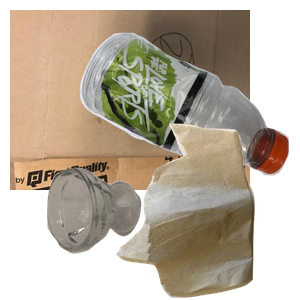cardboard: (10, 10, 250, 190)
glass: (44, 165, 178, 300)
plastic: (77, 30, 300, 198)
trash: (114, 121, 300, 300)
